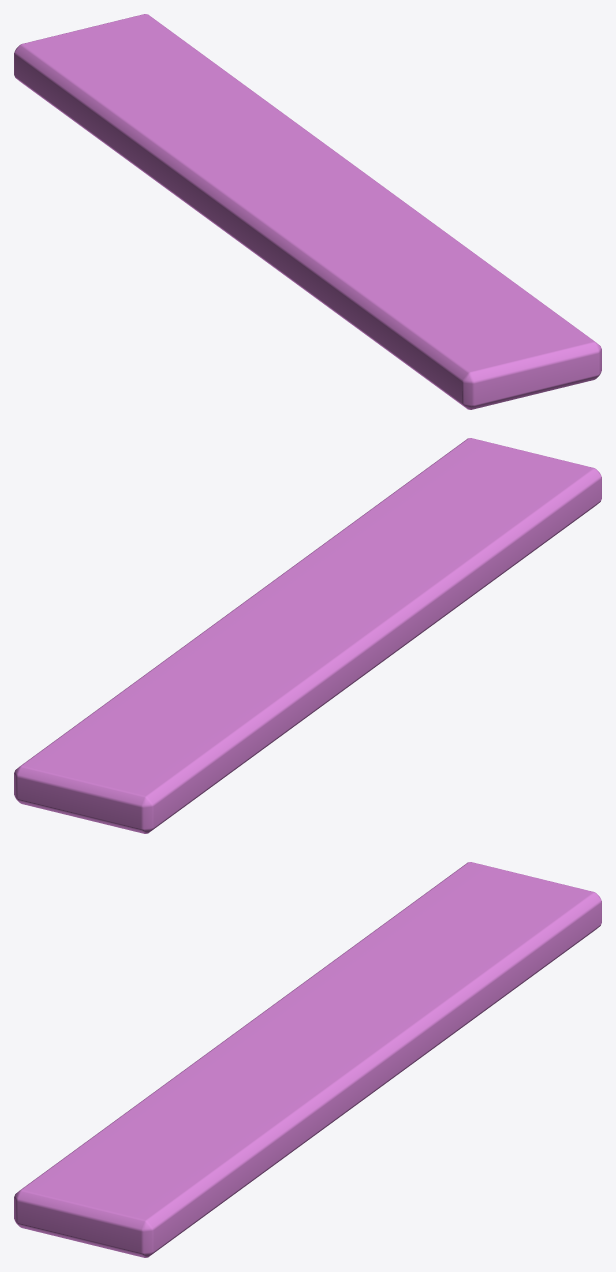
Rendered from WayLong.fbx.
3 views of the same model, one above another, from view 1: azimuth 30°, elevation 25°; view 2: azimuth 150°, elevation 25°; view 3: azimuth 330°, elevation 25° (orthographic).
Visible parts, largest first — view 1: Circle.004; view 2: Circle.004; view 3: Circle.004.
Part boxes in pixels (<box>): Circle.004: <box>14,14,601,409</box>; Circle.004: <box>14,438,601,833</box>; Circle.004: <box>14,862,601,1257</box>.
Size of the model in its own units: 2.67 by 0.6978 by 15.11.
